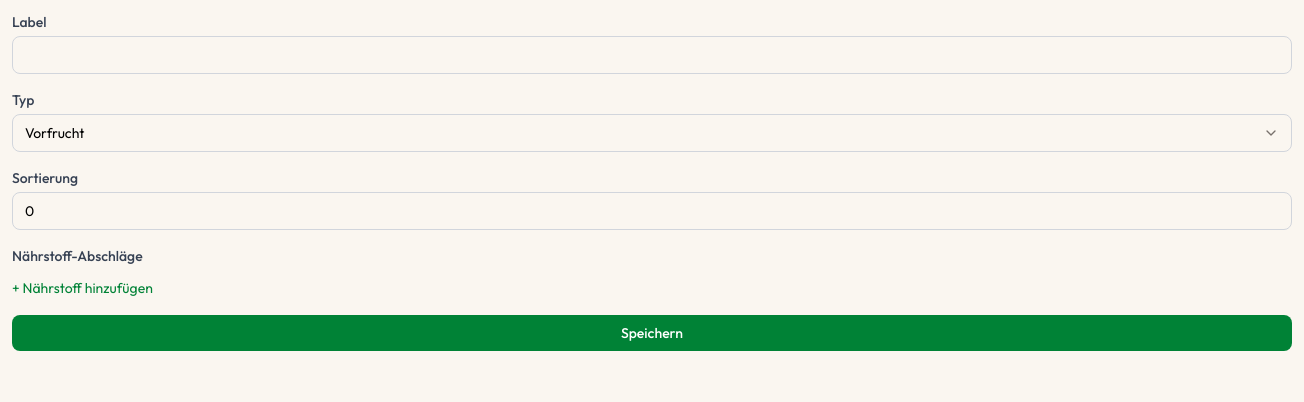
Test: AdminCorrectionForm › can add nutrient value row
Click the button with test id "admin-correction-add-nutrient-button" at (82, 288), box [12,278,153,298]
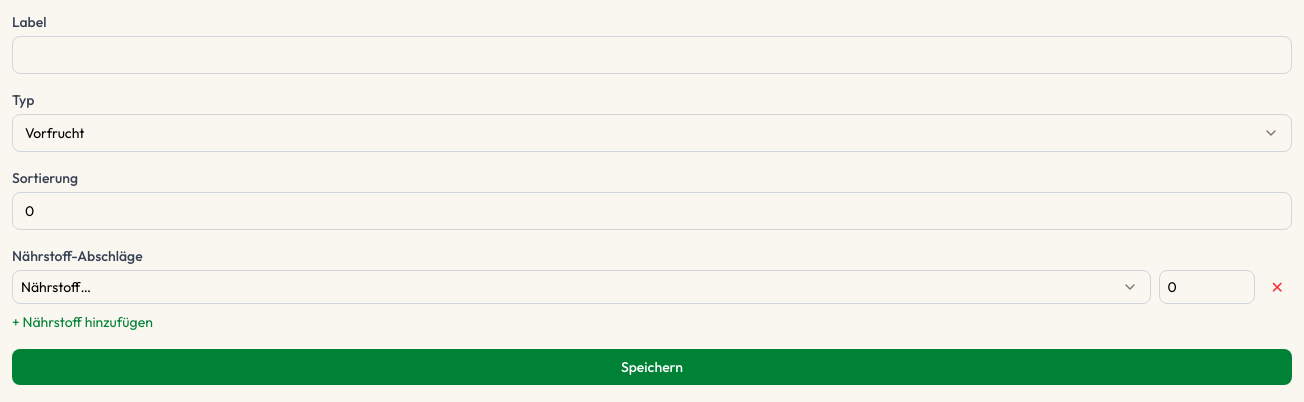
Now the element with test id "admin-correction-nutrient-row-0" is shown, box [12,270,1292,304]
